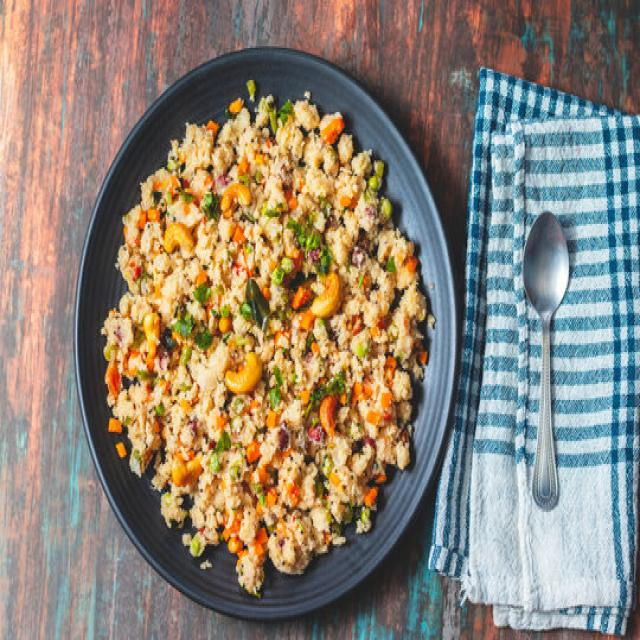UPMA: (101, 94, 434, 596)
